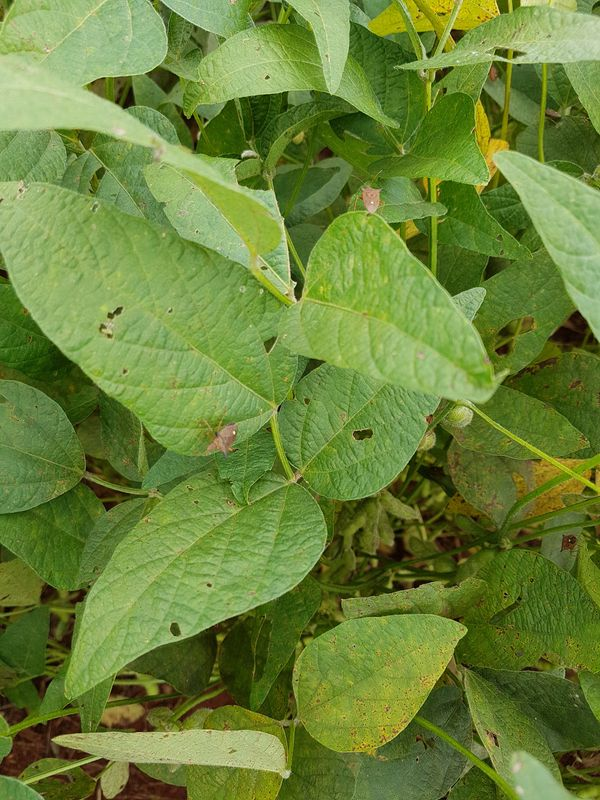Euschistus_heros_adulto: (198, 414, 244, 461), (351, 177, 390, 217), (557, 531, 583, 556)
